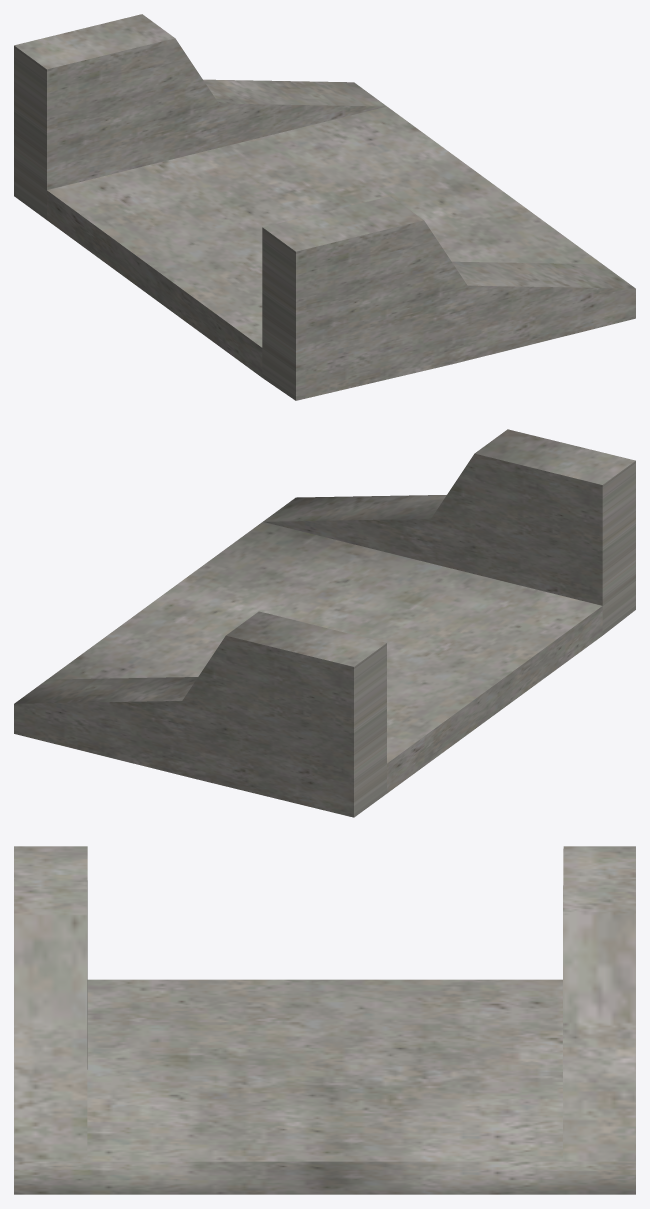
Rendered from DWARF_PALACE_WATERFALL_SPOUT.fbx.
The picture shows the model from 3 angles, top to bottom: view 1: azimuth 30°, elevation 25°; view 2: azimuth 150°, elevation 25°; view 3: azimuth 270°, elevation 25°; orthographic projection. The views are drawn at different scales.
Parts seen in each view (by area): view 1: DWARF_PALACE_WATERFALL_SPOUT; view 2: DWARF_PALACE_WATERFALL_SPOUT; view 3: DWARF_PALACE_WATERFALL_SPOUT.
Part boxes in pixels (bbox=[...]): DWARF_PALACE_WATERFALL_SPOUT: bbox=[14, 14, 635, 400]; DWARF_PALACE_WATERFALL_SPOUT: bbox=[14, 429, 635, 817]; DWARF_PALACE_WATERFALL_SPOUT: bbox=[14, 846, 635, 1194].
Bounding box in the file's own units: 23751 × 10062 × 34099.
Materials: 1 (1 with a texture image).
